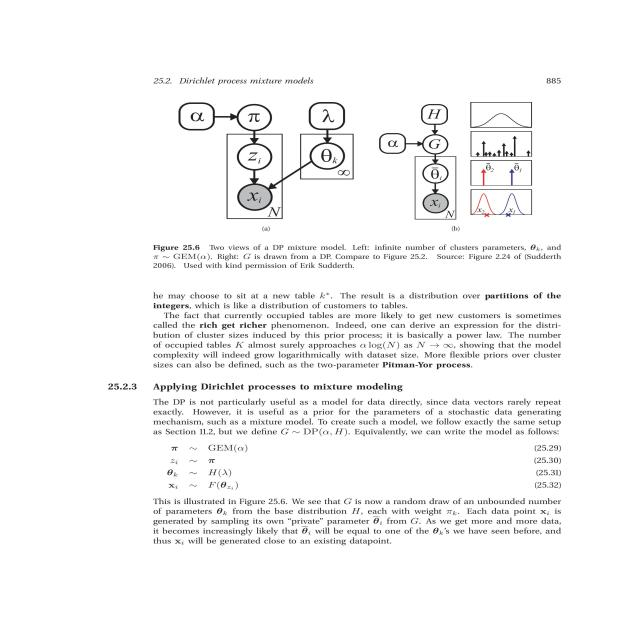diagram: (123, 94, 621, 270)
